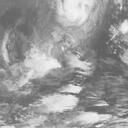cyclone: (24, 40, 74, 85)
